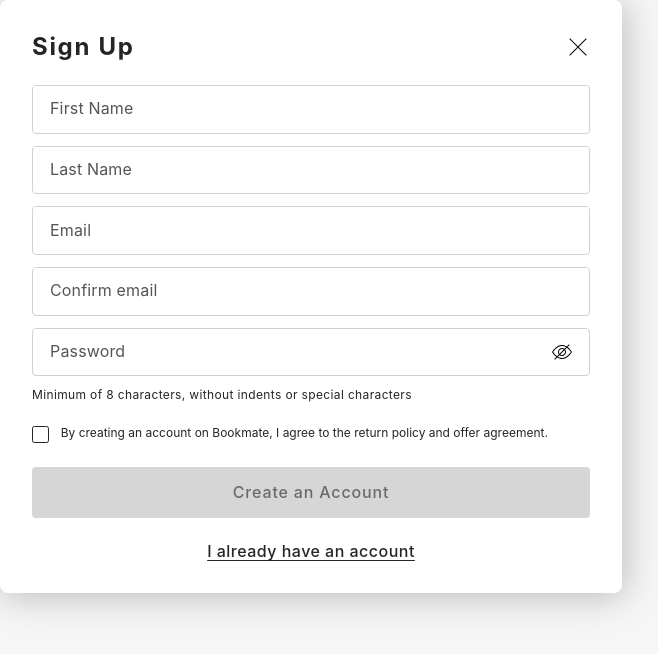
Test: RegisterForm component › Validation logic › should validate last name for minimum and maximum character limits
Expected: the text "minimum number of characters is 4" is not shown
Expected: the field named "lastName" is shown, [32,146,590,194]
Click the text "Last Name" at (311, 169), box [34,147,588,192]
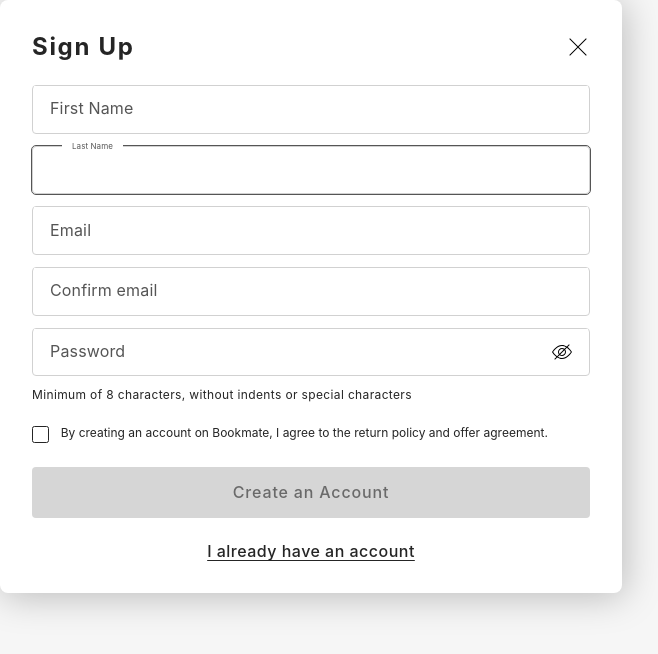
Type "Ss" into the field named "lastName" at (311, 170), box [32,146,590,194]
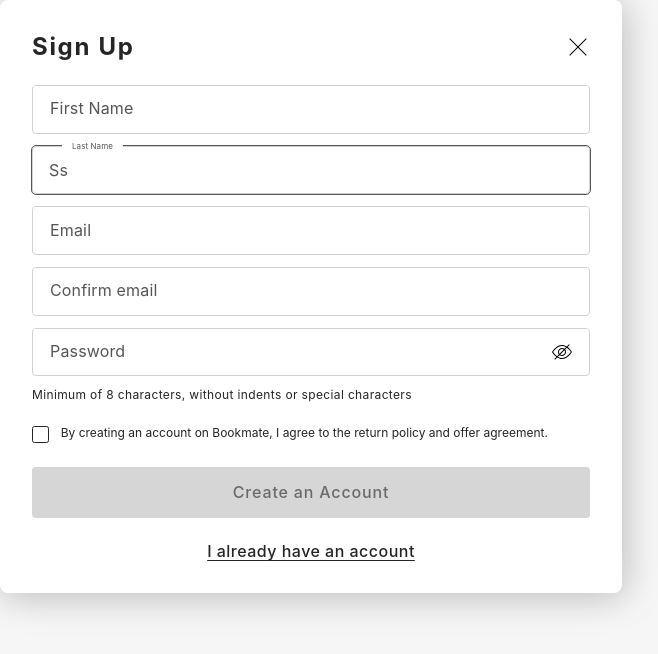
Click the button "Create an Account" at (311, 492), box [32,467,590,518]
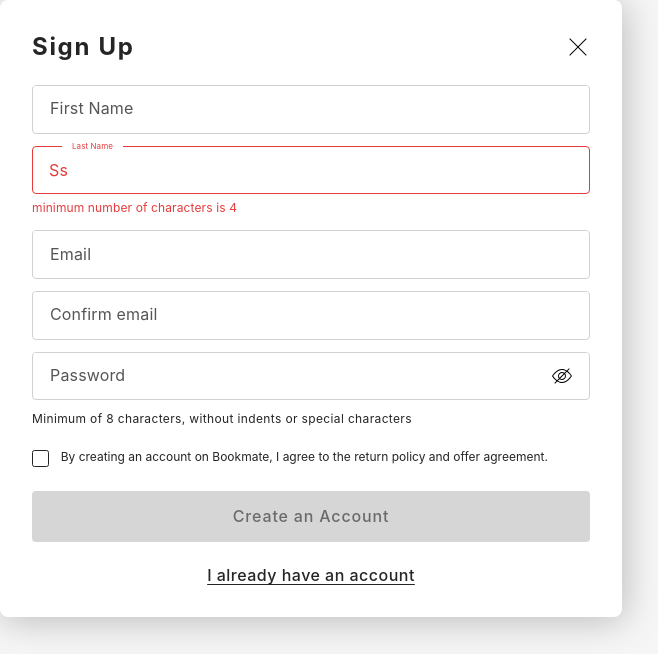
Expected: the text "The maximum number of characters is 20" is not shown
Expected: the text "minimum number of characters is 4" is shown, [32,200,237,215]
Type "Aaaaaaaaaaaaaaaaaaaaaass" into the field named "lastName" at (311, 170), box [32,146,590,194]
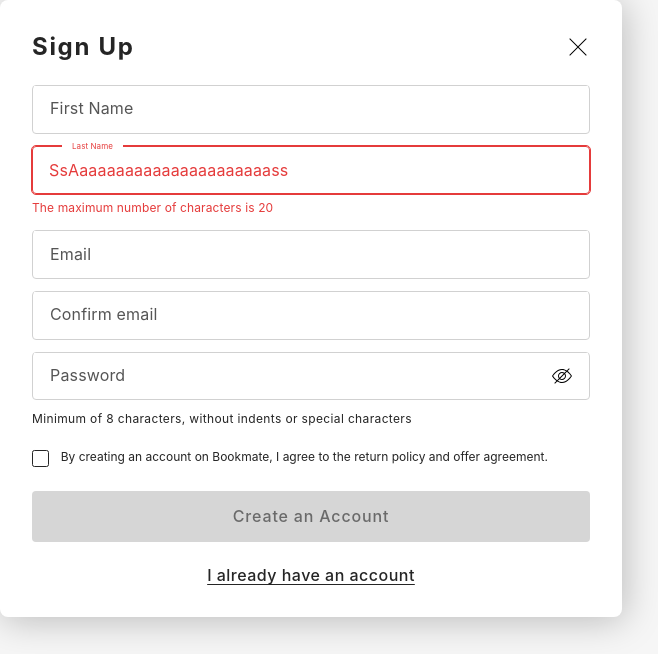
Expected: the text "minimum number of characters is 4" is gone
Expected: the text "The maximum number of characters is 20" is shown, [32,200,273,215]
